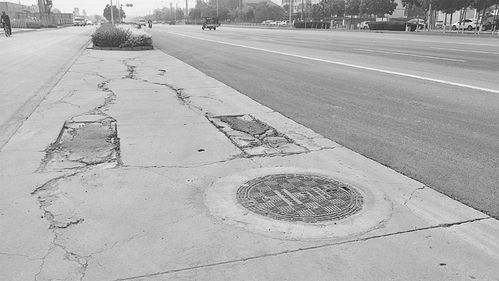good: (206, 163, 399, 240)
